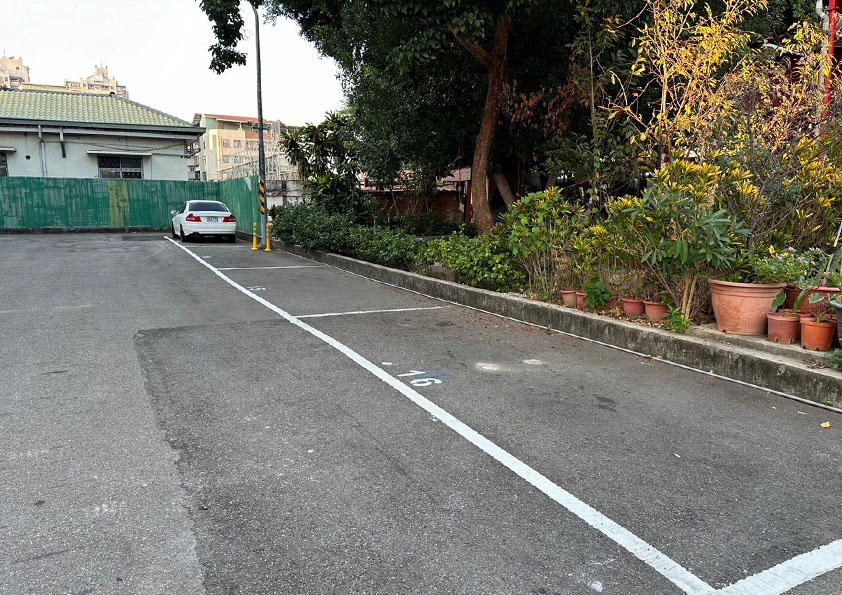car: (168, 194, 240, 241)
